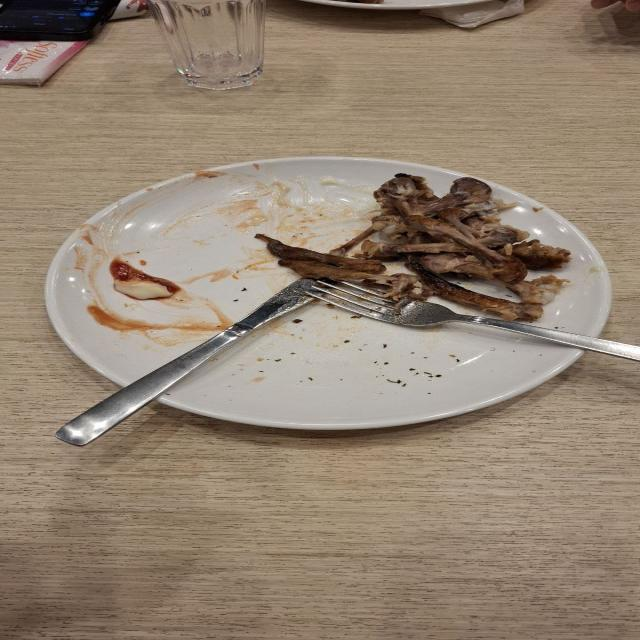Bones: (371, 174, 570, 320), (256, 235, 542, 321), (256, 234, 386, 281)
